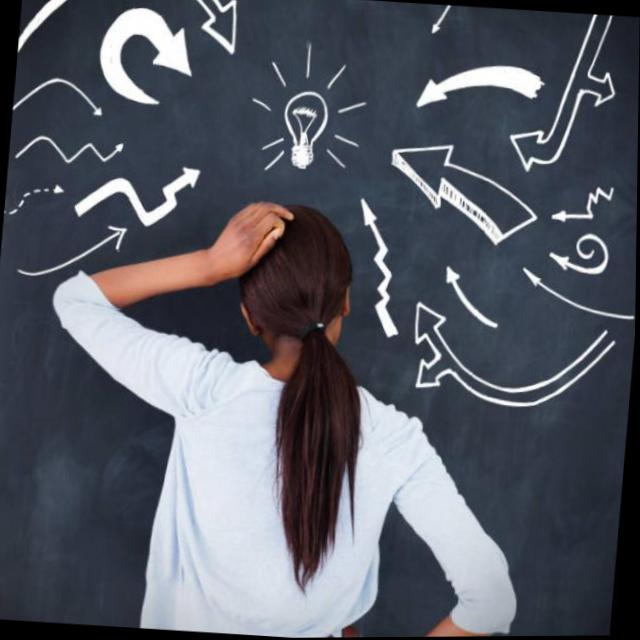no helmet: (227, 209, 362, 379)
